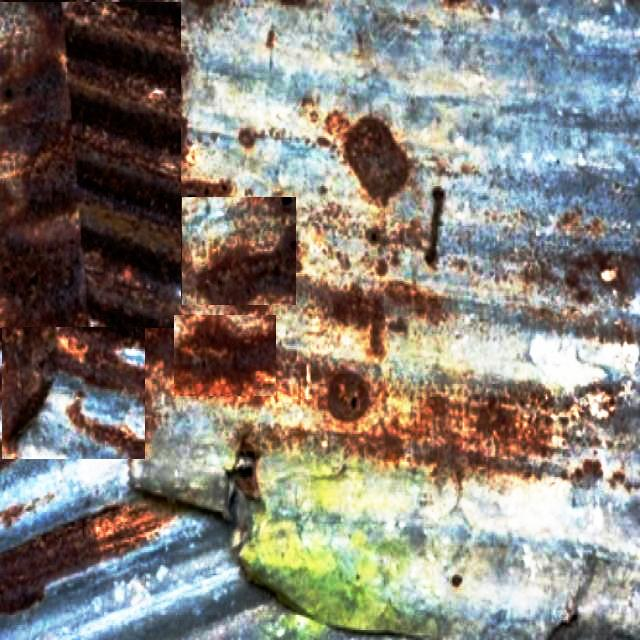Corrosion: (0, 2, 182, 328), (174, 316, 276, 402), (194, 230, 296, 304), (1, 329, 58, 440), (345, 117, 411, 206), (328, 372, 370, 422)
